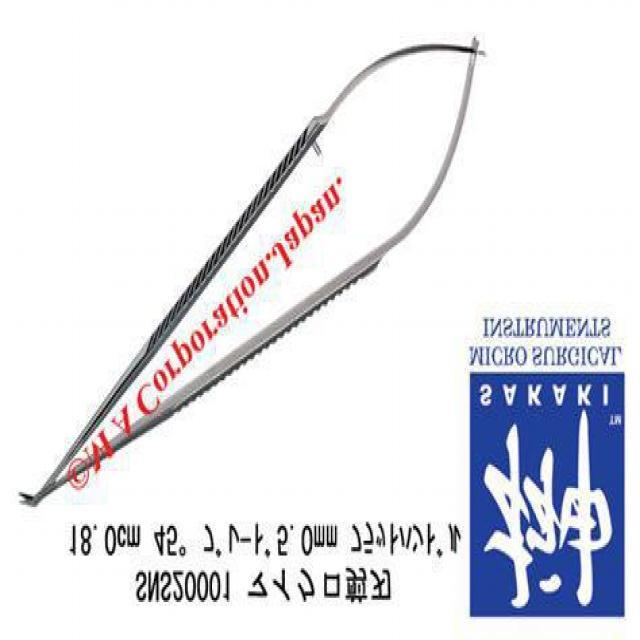Potts: (14, 25, 486, 518)
